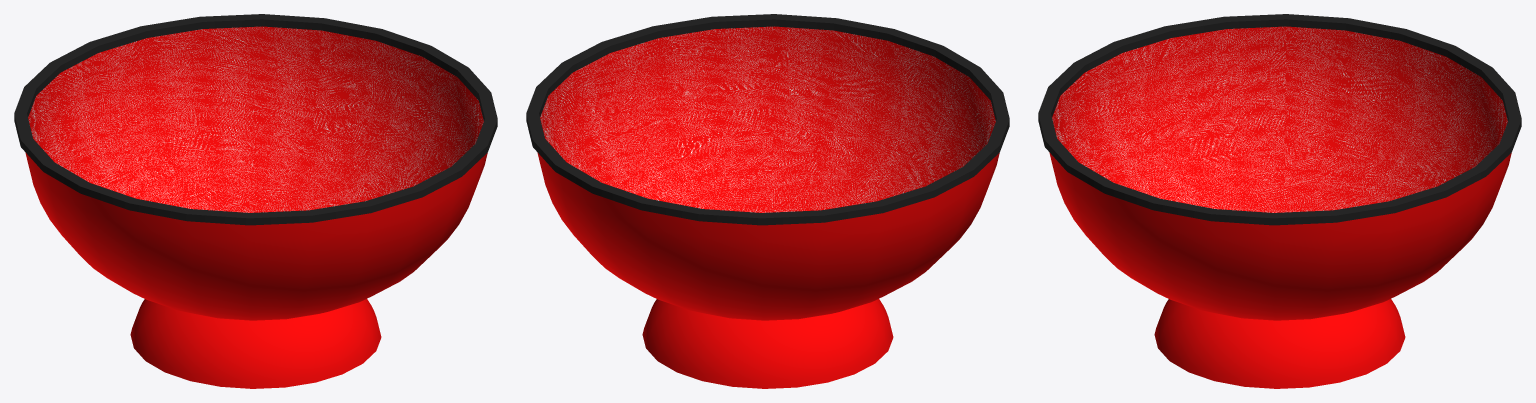
The model's file is bowl_05_origin.dae.
The picture shows the model from 3 angles, left to right: view 1: azimuth 30°, elevation 25°; view 2: azimuth 150°, elevation 25°; view 3: azimuth 270°, elevation 25°; orthographic projection.
Parts seen in each view (by area): view 1: Component_2 (×4); view 2: Component_2 (×4); view 3: Component_2 (×4).
Boxes of the visible parts, bbox=[...] form: Component_2 (×4): bbox=[14, 14, 497, 388]; Component_2 (×4): bbox=[526, 14, 1009, 388]; Component_2 (×4): bbox=[1038, 14, 1521, 388].
Size of the model in its own units: 7.06 by 7.06 by 3.54.
